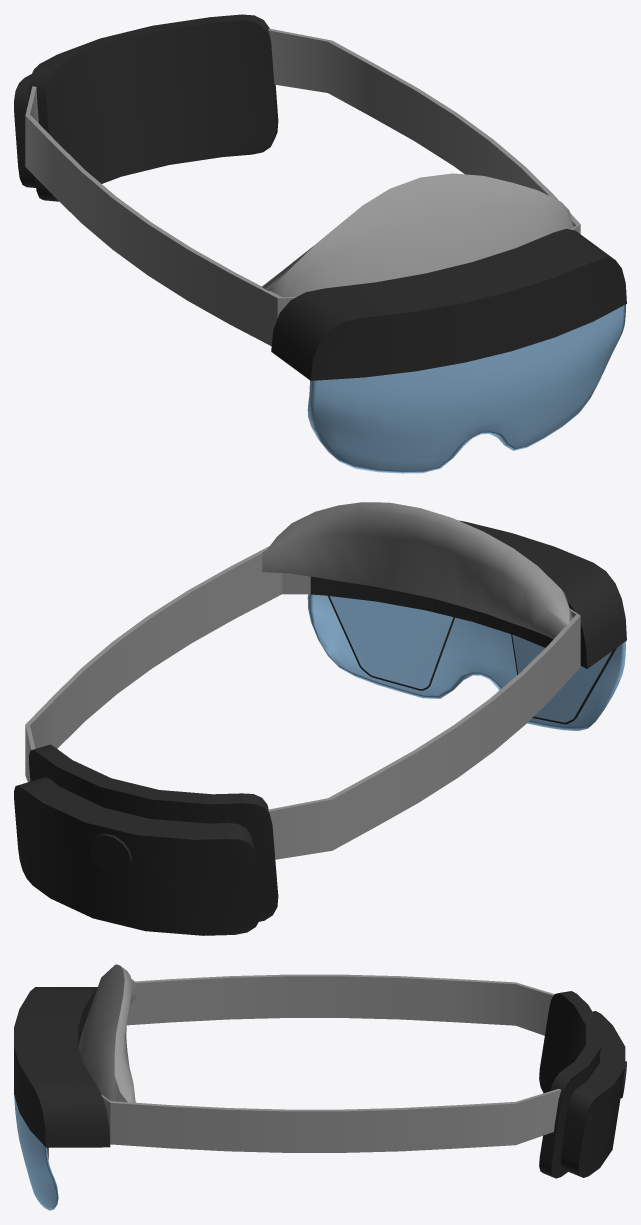
Rendered from HololensModel.fbx.
3 views of the same model, one above another, from view 1: azimuth 30°, elevation 25°; view 2: azimuth 150°, elevation 25°; view 3: azimuth 270°, elevation 25° (orthographic). The views are drawn at different scales.
Parts seen in each view (by area): view 1: Box004, Box003, Object001, Sphere001, Box006, Box005, Box002; view 2: Box002, Sphere001, Box006, Box005, Box004, Box003, Object001, Box008, Box007, Cylinder001; view 3: Box005, Box006, Box004, Box003, Box002, Sphere001, Object001.
Boxes of the visible parts, x1=… form: Box004: x1=271, y1=228, x2=626, y2=380; Box003: x1=29, y1=14, x2=278, y2=201; Object001: x1=307, y1=304, x2=625, y2=473; Sphere001: x1=262, y1=173, x2=573, y2=297; Box006: x1=25, y1=86, x2=296, y2=346; Box005: x1=268, y1=28, x2=580, y2=233; Box002: x1=14, y1=74, x2=35, y2=187; Box002: x1=14, y1=777, x2=261, y2=935; Sphere001: x1=262, y1=502, x2=572, y2=639; Box006: x1=268, y1=608, x2=580, y2=859; Box005: x1=25, y1=546, x2=310, y2=781; Box004: x1=310, y1=520, x2=626, y2=668; Box003: x1=29, y1=744, x2=278, y2=921; Object001: x1=307, y1=594, x2=626, y2=730; Box008: x1=329, y1=596, x2=453, y2=688; Box007: x1=512, y1=634, x2=612, y2=722; Cylinder001: x1=90, y1=833, x2=132, y2=876; Box005: x1=101, y1=1089, x2=561, y2=1152; Box006: x1=127, y1=974, x2=554, y2=1035; Box004: x1=14, y1=987, x2=110, y2=1147; Box003: x1=539, y1=991, x2=601, y2=1178; Box002: x1=561, y1=1011, x2=625, y2=1177; Sphere001: x1=78, y1=964, x2=135, y2=1102; Object001: x1=14, y1=1096, x2=58, y2=1210.
Size of the model in its own units: 21.16 by 14.2 by 40.09.
